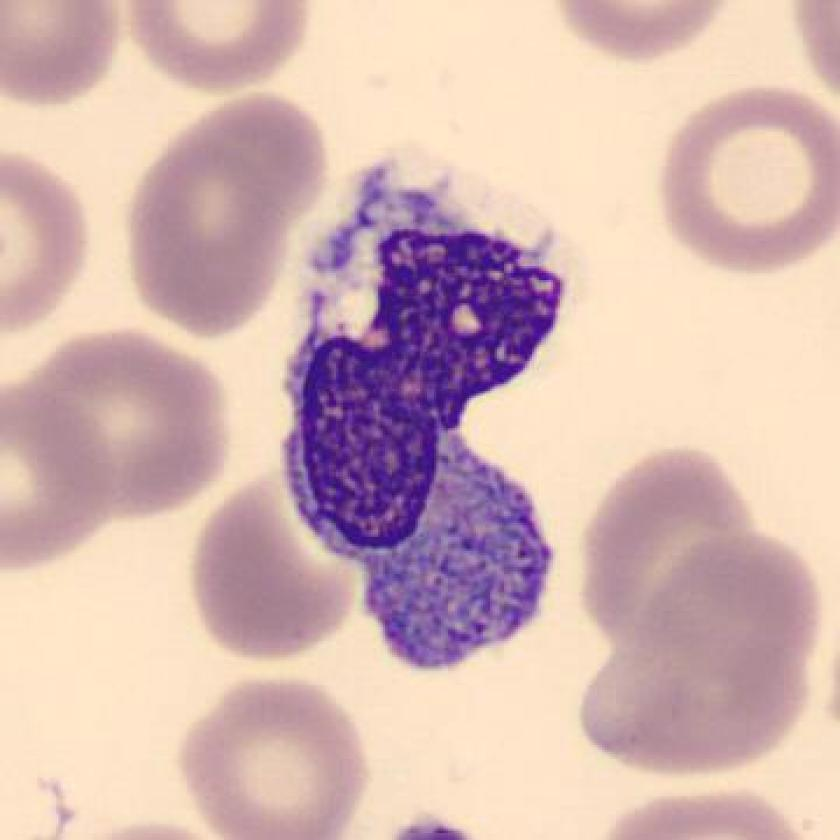monocyte: (253, 135, 594, 695)
